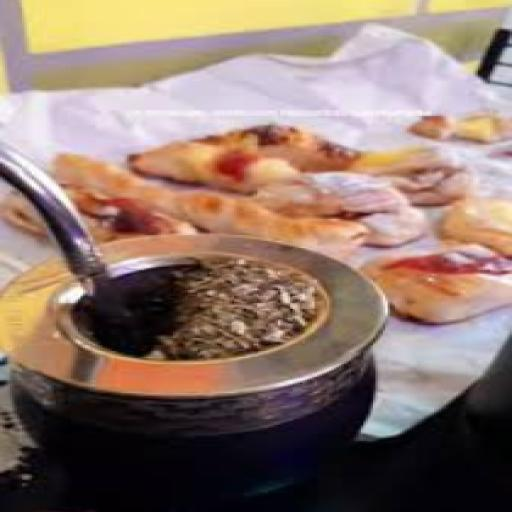mate: (33, 237, 314, 483)
